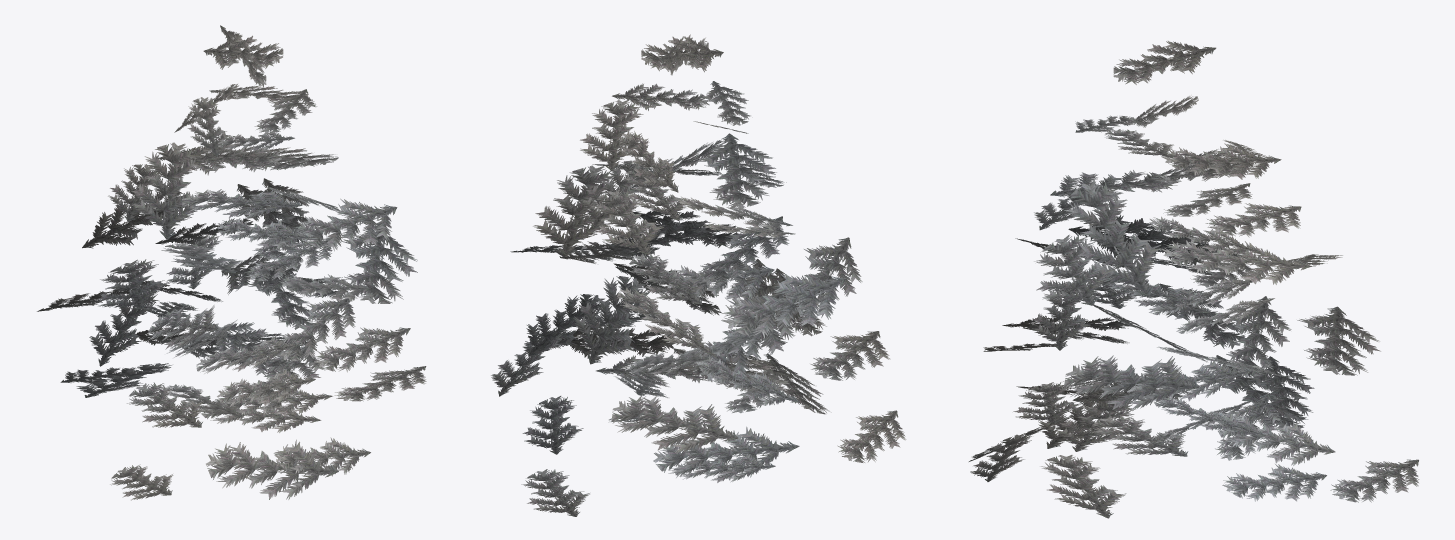
The model's file is dwarf_pine_l1.gltf.
3 views of the same model, side by side, from view 1: azimuth 30°, elevation 25°; view 2: azimuth 150°, elevation 25°; view 3: azimuth 270°, elevation 25° (orthographic). The views are drawn at different scales.
Visible parts, largest first — view 1: dwarf_pine_l1; view 2: dwarf_pine_l1; view 3: dwarf_pine_l1.
Boxes of the visible parts, x1,y1,x2,y2 form: dwarf_pine_l1: [37, 25, 426, 500]; dwarf_pine_l1: [491, 34, 906, 516]; dwarf_pine_l1: [969, 41, 1419, 518].
Size of the model in its own units: 3.61 by 3.92 by 3.84.
Materials: 1 (1 with a texture image).
